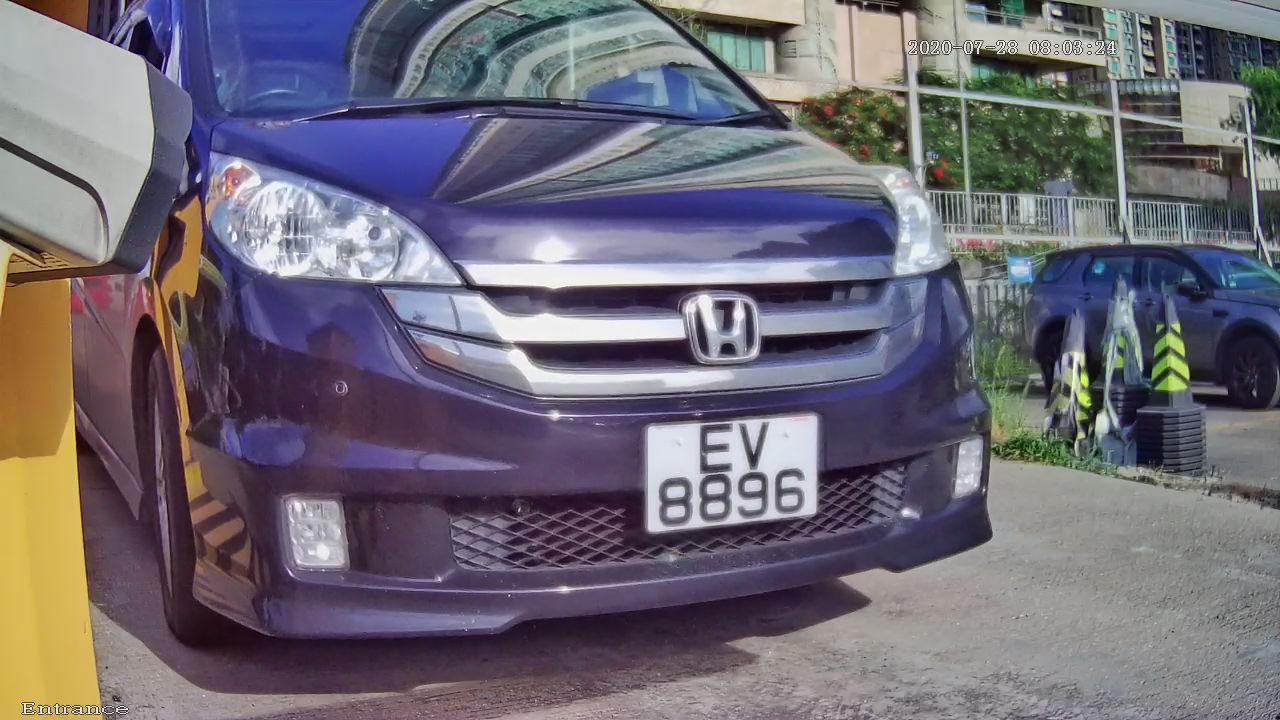privatecar: (29, 17, 1121, 704)
